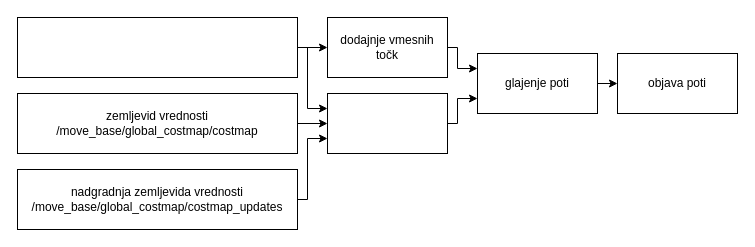
This 755x247 diagram has some shape labels left out. Here are the shapes that lost their labels. From the top down, the centre of each, then its label:
point (157, 47): groba pot /move_base/TrajectoryPlannerROS/global_plan
point (387, 123): določanje območja glajenja
